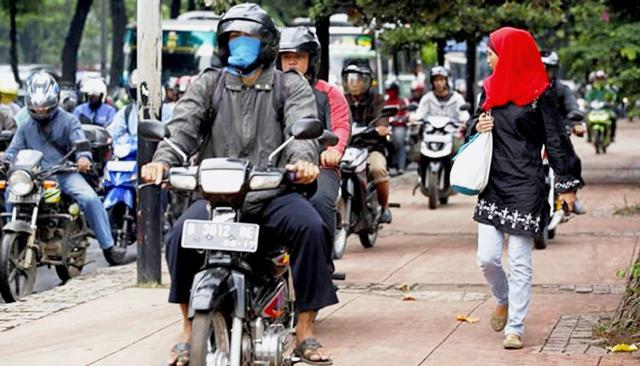helm: (214, 4, 281, 78), (275, 27, 323, 84), (27, 75, 62, 124), (343, 62, 375, 100), (537, 51, 561, 84), (83, 80, 108, 110), (429, 67, 450, 94), (596, 72, 608, 87)
motor: (140, 118, 322, 366), (2, 149, 93, 307), (324, 105, 404, 265), (101, 133, 151, 265), (407, 114, 467, 212), (581, 99, 620, 158)
